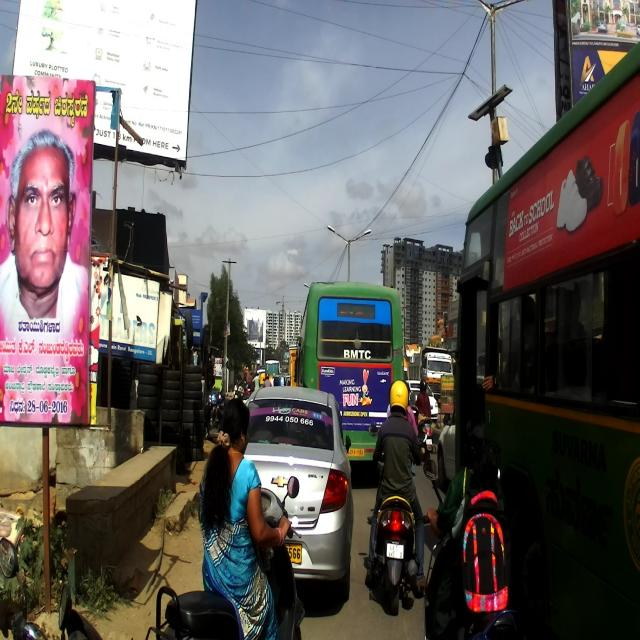bus: (452, 41, 640, 639), (296, 278, 404, 467)
car: (240, 384, 356, 604)
motorcycle: (0, 533, 48, 639)
scooter: (146, 476, 304, 639), (367, 423, 428, 615)
